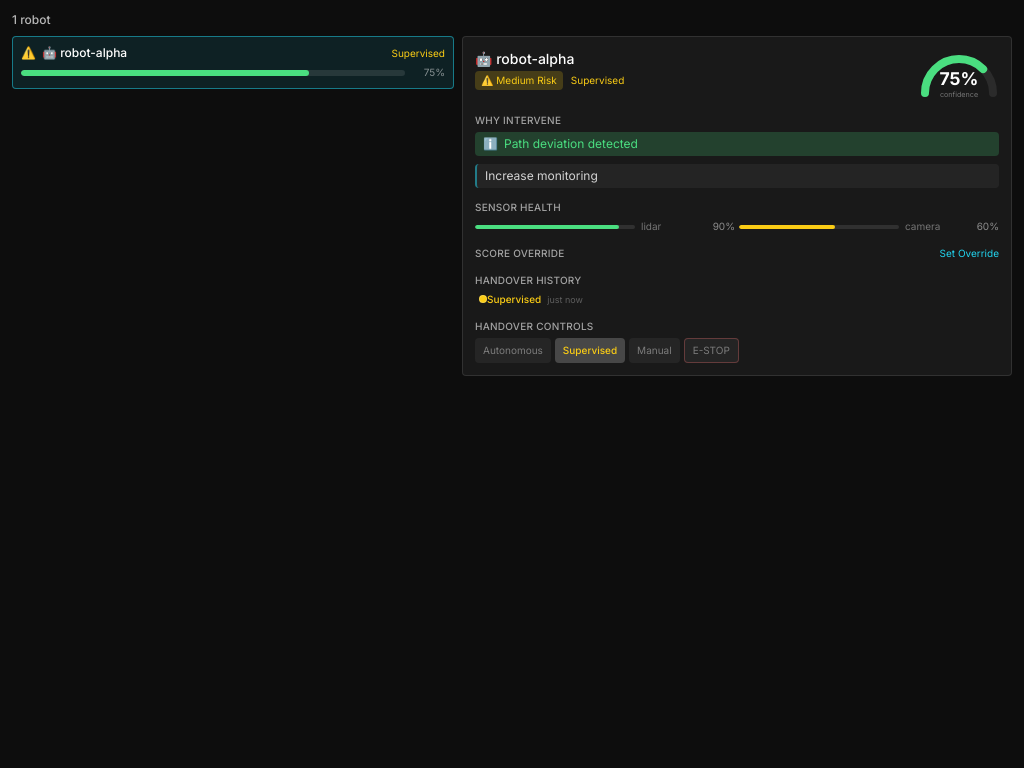
Test: TrustDashboard — Override Panel › expands override form on click
Click the button "Set Override" at (969,254), box [940,246,999,261]
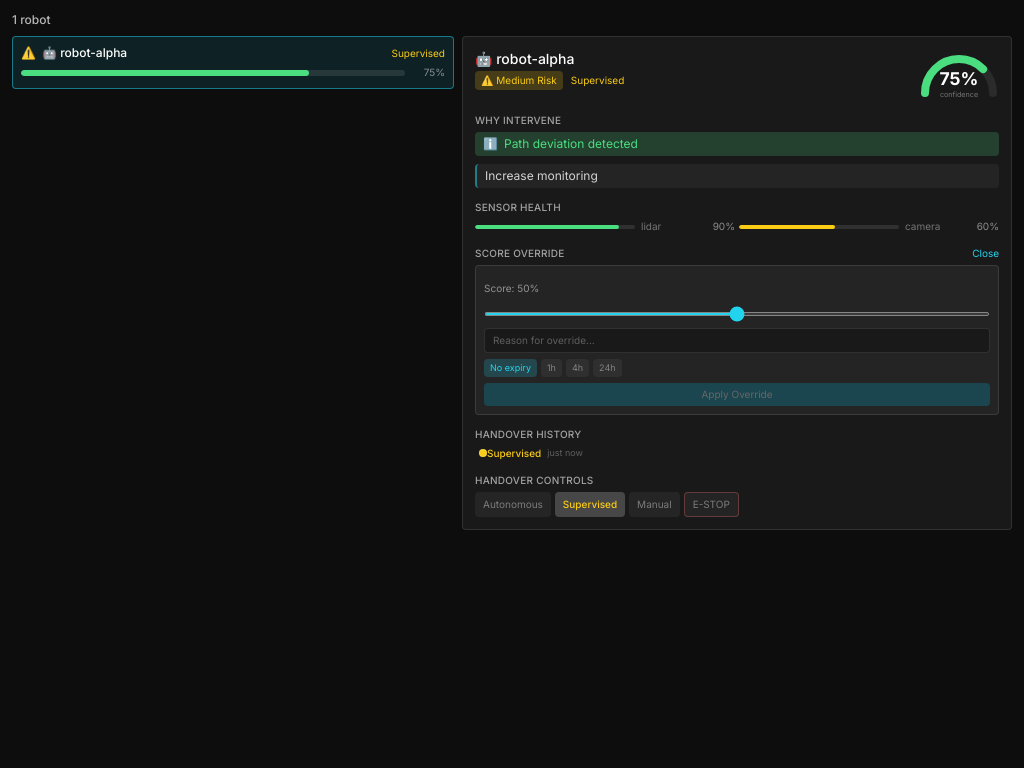
Check: the slider with test id "override-score-slider" is shown, box [484,312,990,316]
Check: the field with test id "override-reason" is shown, box [484,328,990,353]
Check: the button with test id "override-submit" is shown, box [484,382,990,406]
